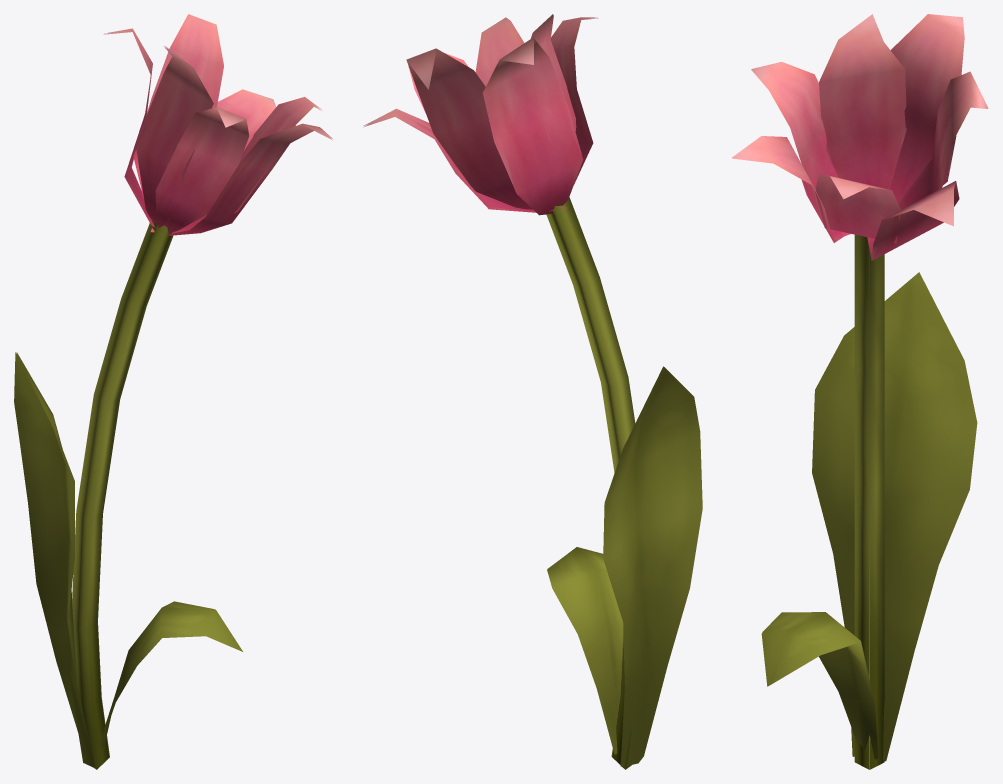
The model's file is Flower_04_01.fbx.
3 views of the same model, side by side, from view 1: azimuth 30°, elevation 25°; view 2: azimuth 150°, elevation 25°; view 3: azimuth 270°, elevation 25° (orthographic). The views are drawn at different scales.
Visible parts, largest first — view 1: Flower_04_01; view 2: Flower_04_01; view 3: Flower_04_01.
Part boxes in pixels (box(x1,y1,x2,y2)): Flower_04_01: box(14, 14, 332, 769); Flower_04_01: box(363, 14, 702, 769); Flower_04_01: box(732, 14, 988, 769).
Size of the model in its own units: 32.82 by 23.65 by 80.12.
